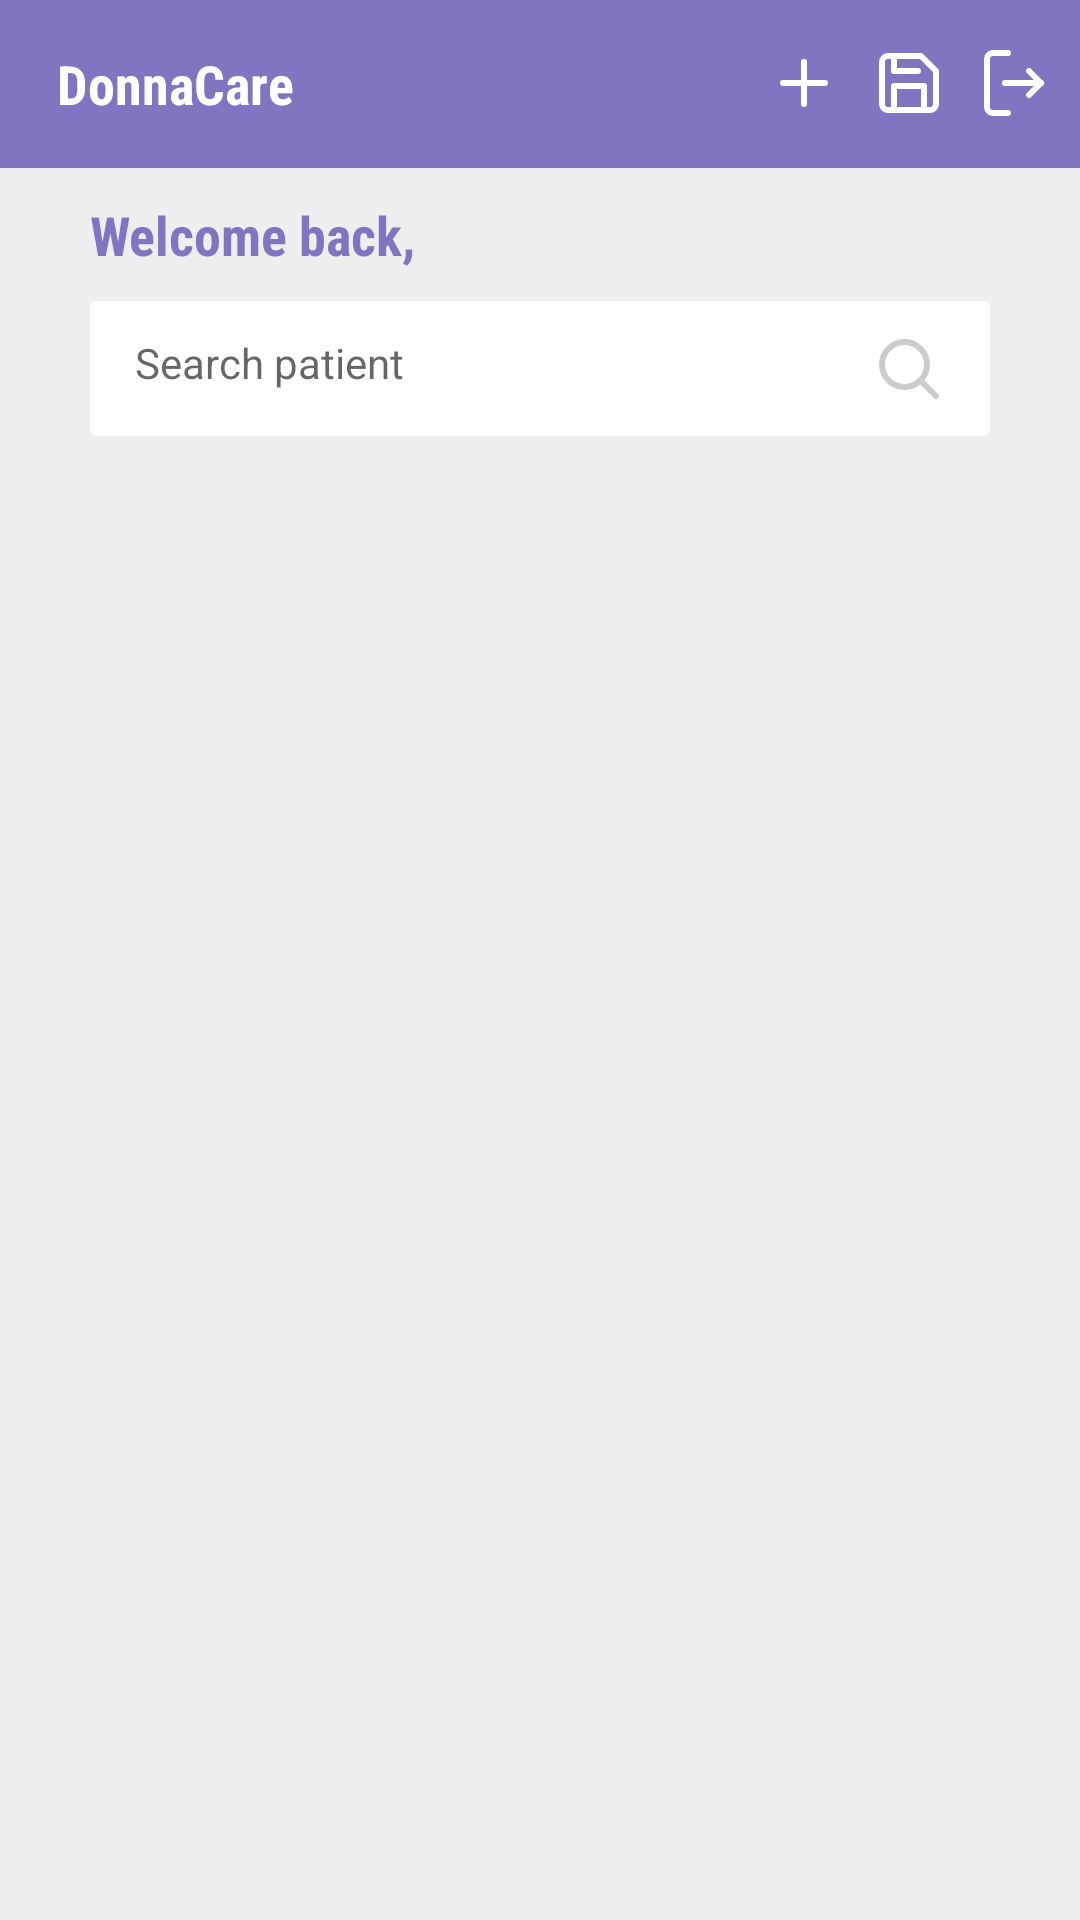

Locate icon controls on the screen. Image size 1080*1920, boxes as (x1, y1, x2, y2).
log out: (984, 50, 1044, 116)
plus: (780, 59, 828, 107)
save: (879, 53, 939, 113)
